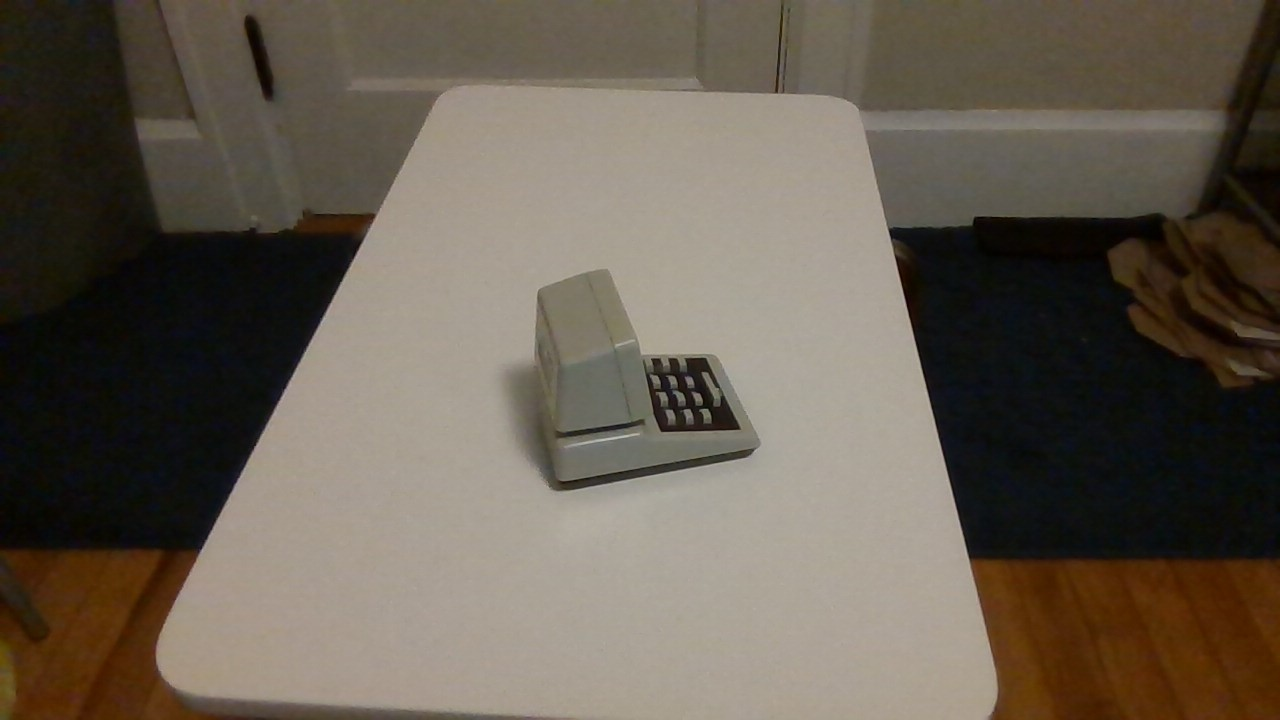Toy: (506, 247, 782, 498)
